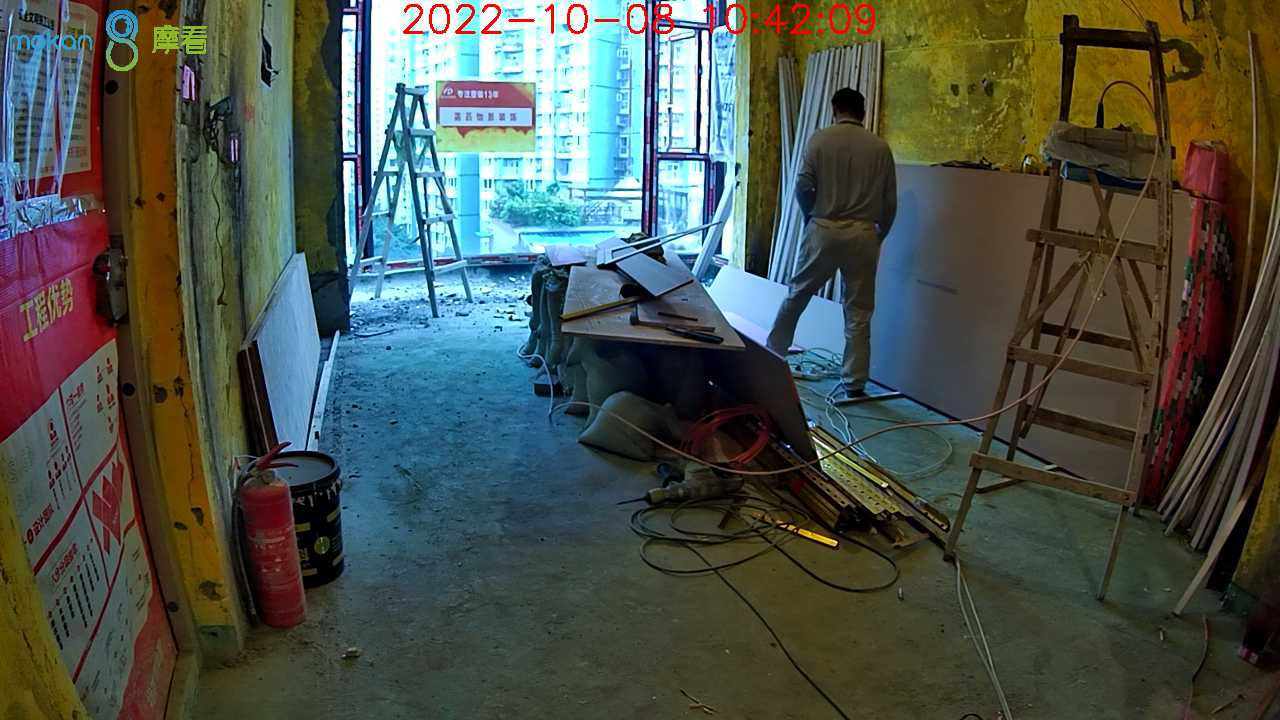people: (766, 88, 899, 398)
window: (333, 1, 723, 255)
